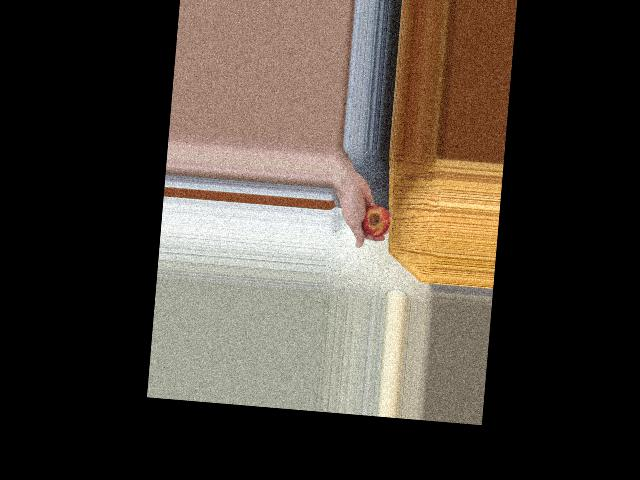apple: (358, 199, 391, 238)
